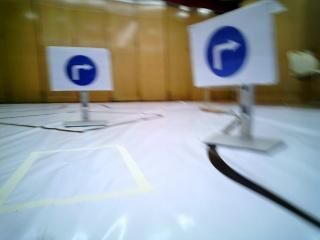right: (186, 21, 272, 80), (43, 47, 112, 93)
